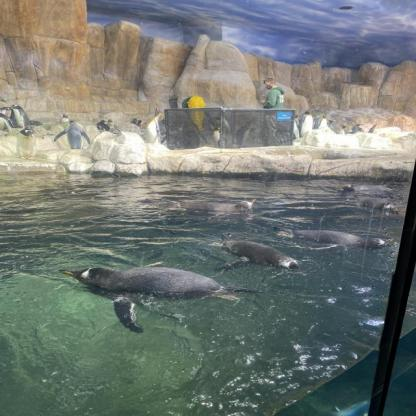penguin: (57, 266, 263, 329), (273, 223, 395, 257), (217, 235, 304, 278), (178, 195, 259, 218), (63, 120, 90, 151), (340, 184, 398, 198), (362, 199, 399, 218), (149, 105, 164, 146), (238, 118, 258, 146), (210, 121, 229, 149), (11, 103, 30, 130), (298, 108, 316, 134), (95, 120, 114, 134), (0, 115, 12, 133), (317, 113, 327, 131), (59, 112, 71, 127), (1, 103, 12, 118), (340, 124, 351, 137), (328, 118, 337, 132), (352, 123, 362, 134), (369, 124, 379, 134)
